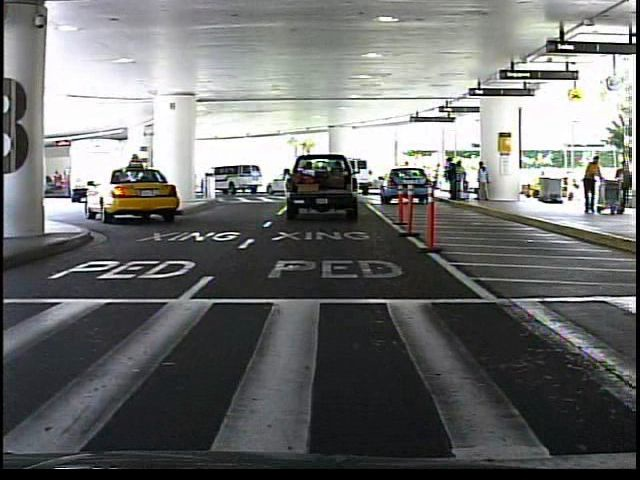person: (580, 152, 607, 218), (613, 157, 637, 214), (400, 158, 416, 193)
